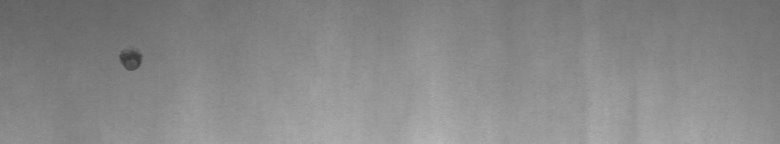fi: (116, 43, 148, 77)
